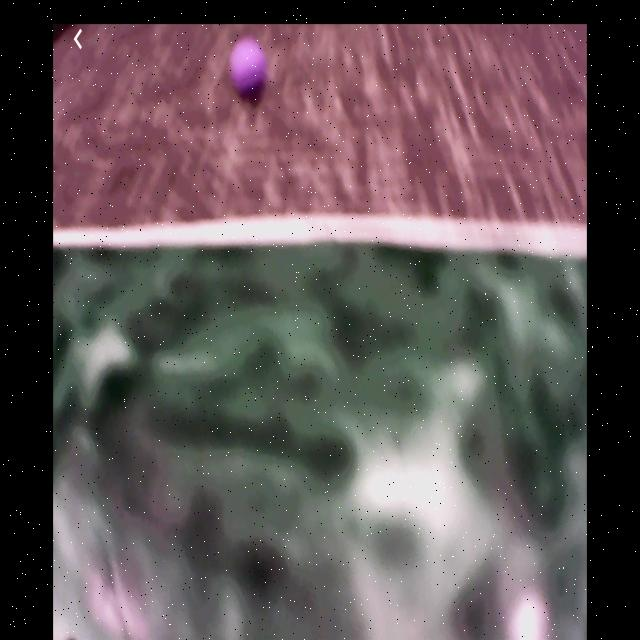ball: (229, 40, 267, 95)
